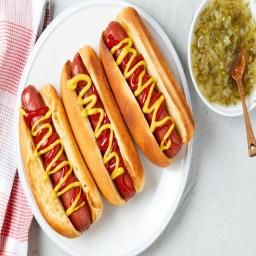hotdog: (100, 1, 196, 166), (60, 43, 146, 208), (15, 81, 104, 239)
